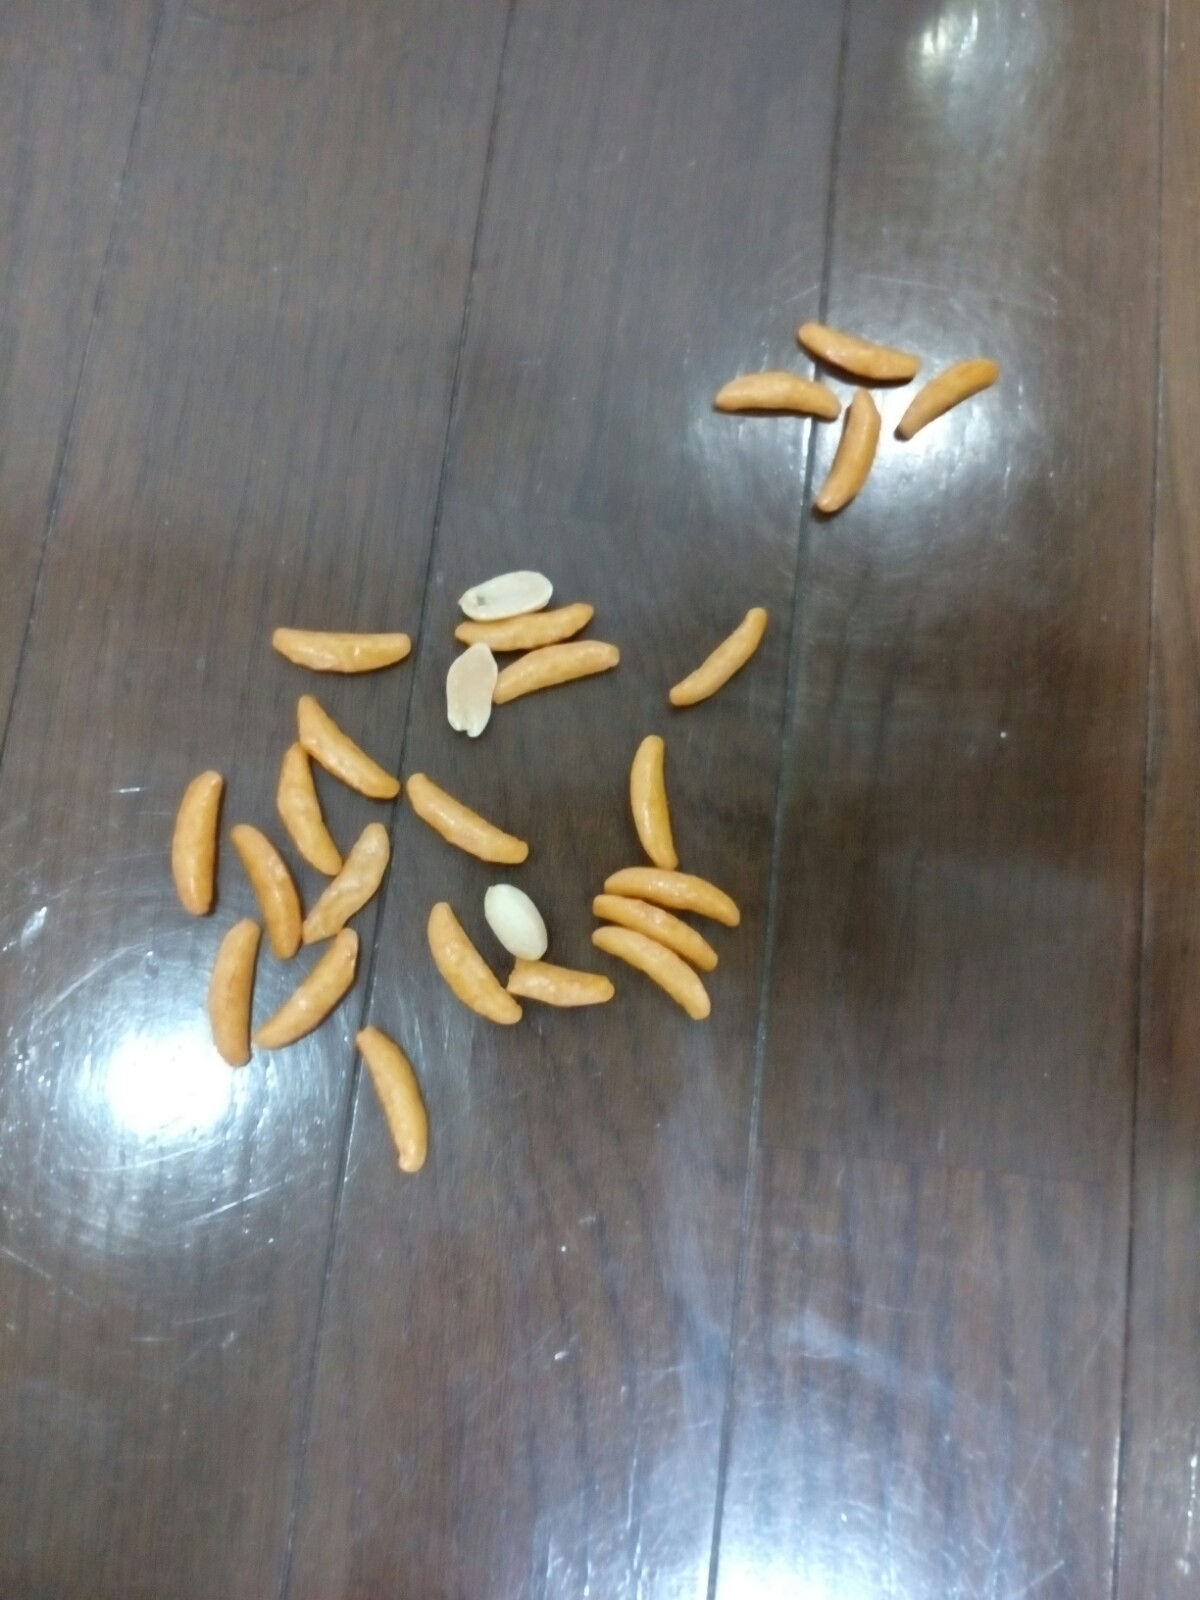peanut: (445, 561, 560, 643), (469, 871, 558, 973), (441, 636, 503, 748)
